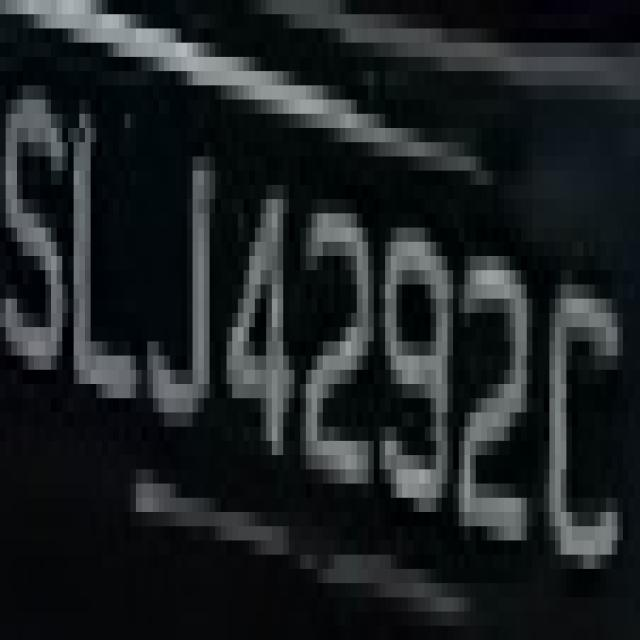2: (289, 156, 379, 498), (453, 213, 532, 583)
4: (221, 142, 294, 484)
C: (538, 242, 634, 612)
J: (130, 156, 221, 441)
L: (62, 85, 148, 455)
S: (11, 43, 74, 398)
